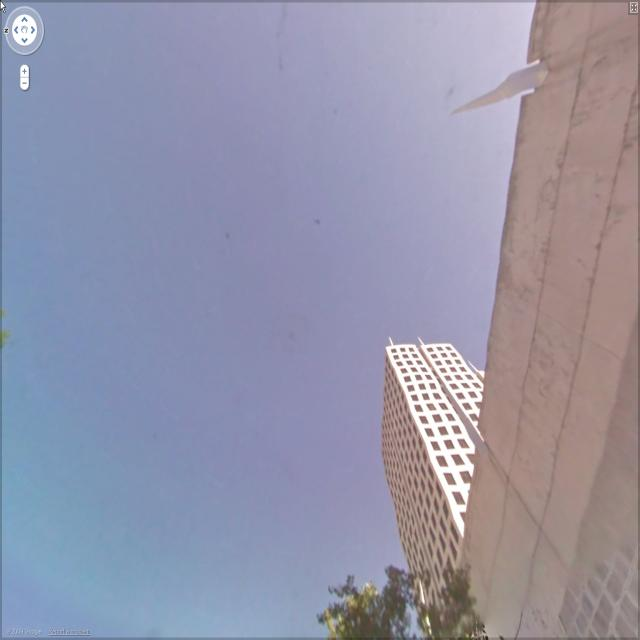b_1: (442, 7, 638, 633), (371, 320, 475, 582)
